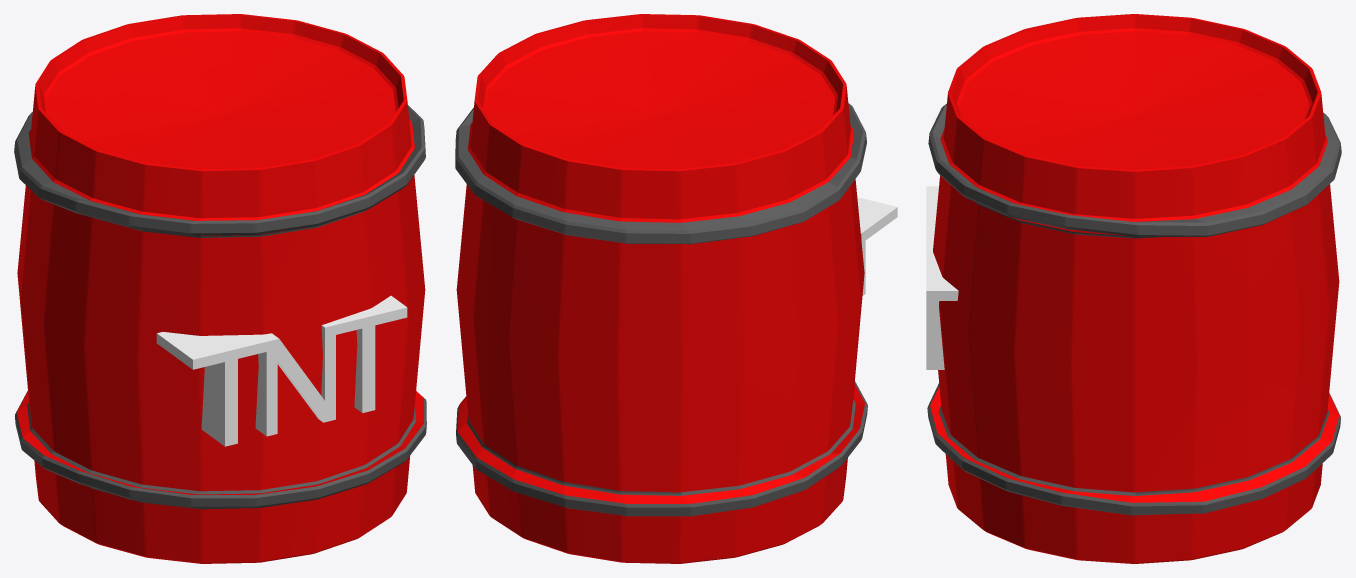
Rendered from Tnt Barrel.fbx.
3 renders of one model, left to right at view 1: azimuth 30°, elevation 25°; view 2: azimuth 150°, elevation 25°; view 3: azimuth 270°, elevation 25°, orthographic.
Parts seen in each view (by area): view 1: pCylinder37; view 2: pCylinder37; view 3: pCylinder37.
Part boxes in pixels (<box>): pCylinder37: <box>14,14,426,563</box>; pCylinder37: <box>455,14,897,563</box>; pCylinder37: <box>926,14,1341,563</box>.
Size of the model in its own units: 2.85 by 3 by 2.86.
